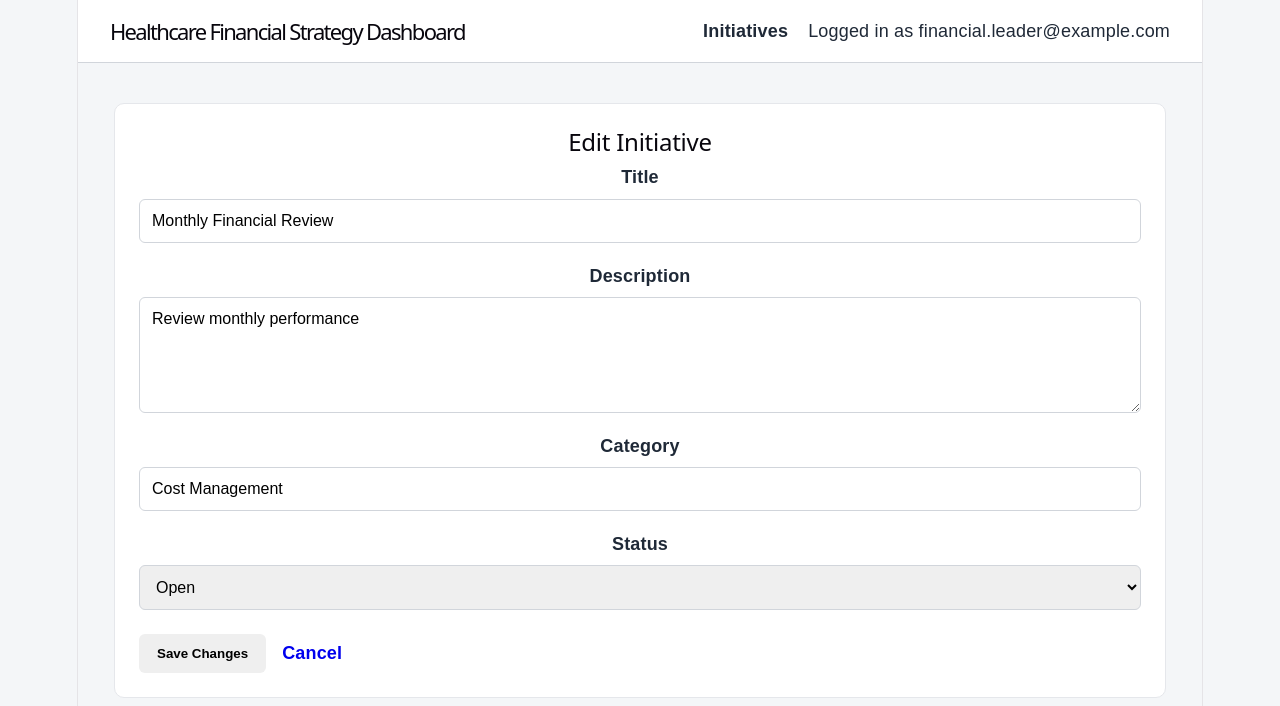
Test: Healthcare Financial Strategy Dashboard › shows an API error when an edit cannot be saved
Replace the text in the field labelled "Title" with "Updated Financial Review" at (640, 220), box [139, 198, 1141, 242]
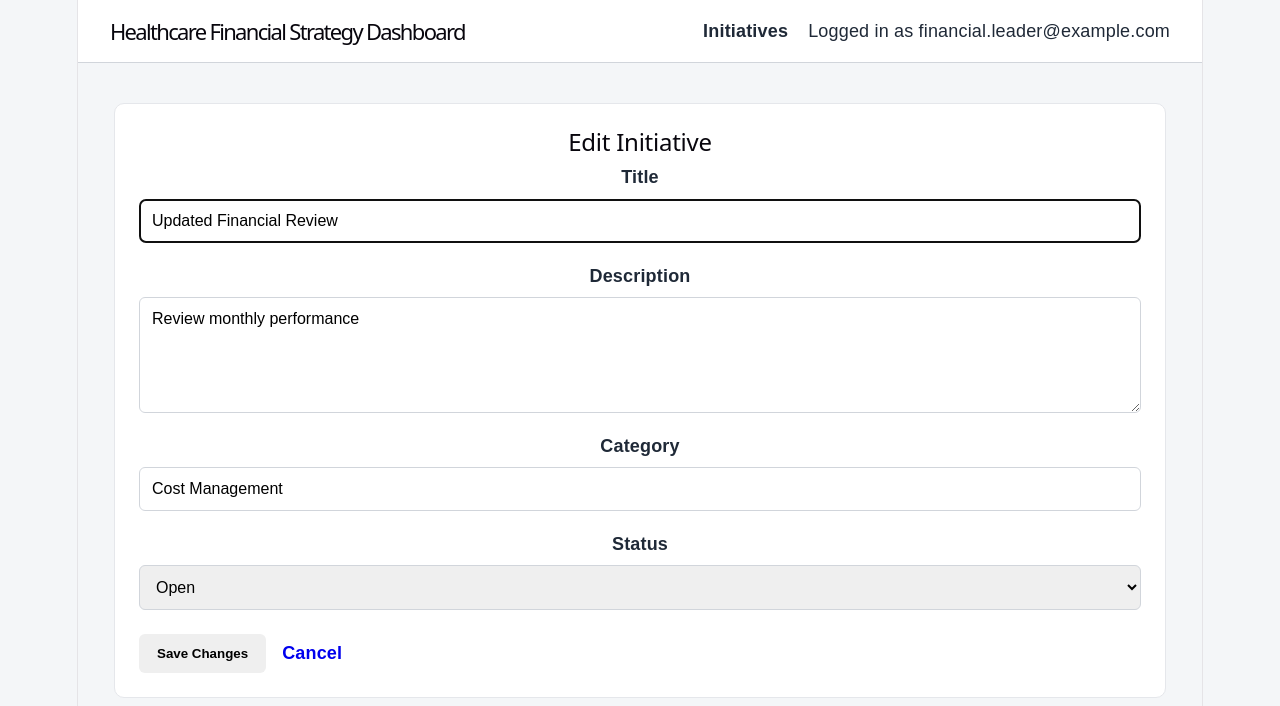
Click the button "Save Changes" at (203, 653), box [139, 634, 266, 673]
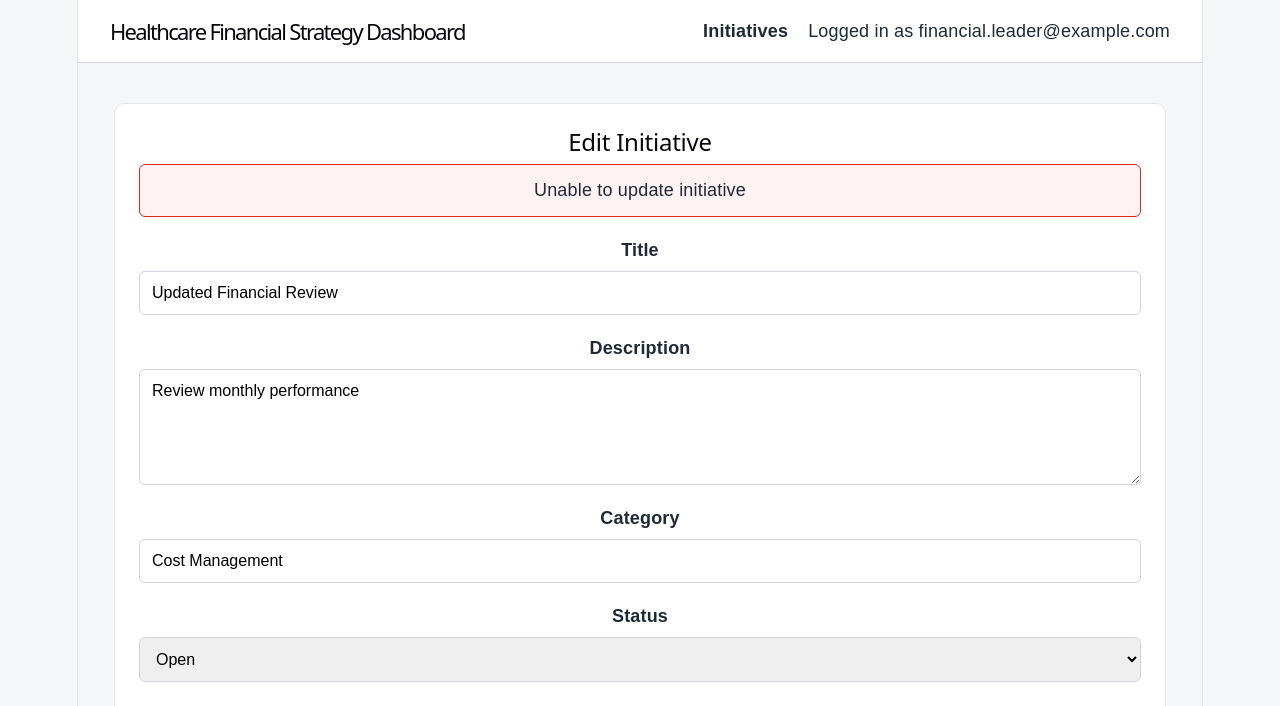
Expected: the text "Unable to update initiative" is shown, [139, 164, 1141, 216]
